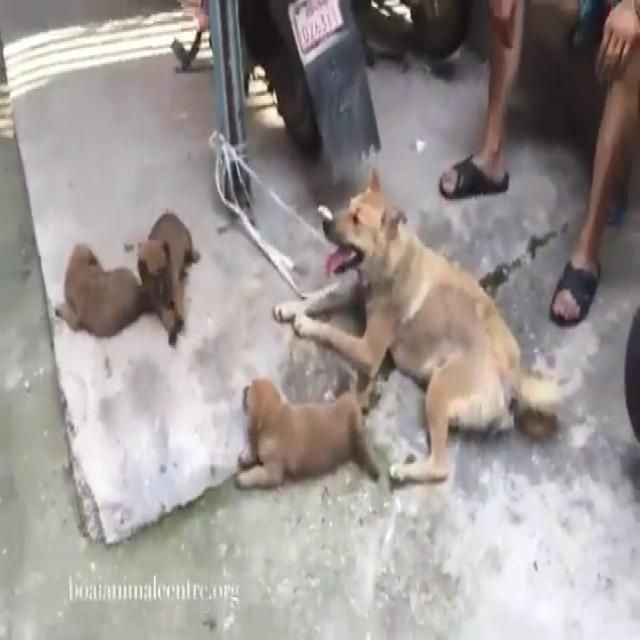injured-animals: (268, 163, 562, 492)
